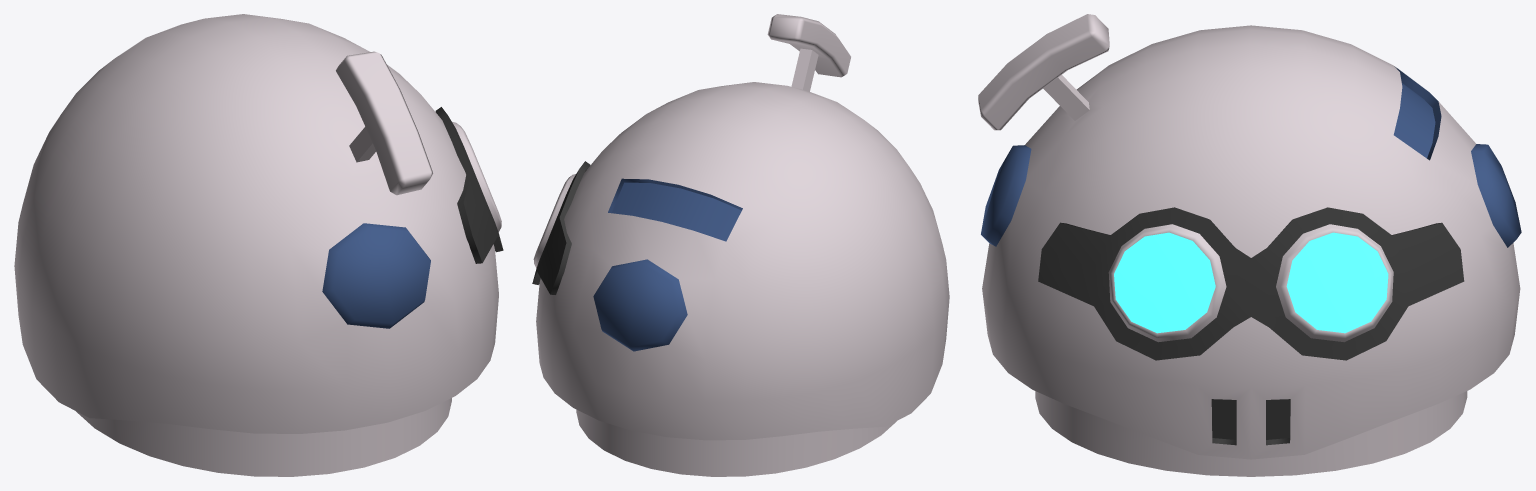
The model's file is Main_Character.fbx.
3 views of the same model, side by side, from view 1: azimuth 30°, elevation 25°; view 2: azimuth 150°, elevation 25°; view 3: azimuth 270°, elevation 25° (orthographic). The views are drawn at different scales.
Parts seen in each view (by area): view 1: SM_Main_Character; view 2: SM_Main_Character; view 3: SM_Main_Character.
Boxes of the visible parts, <box> form: SM_Main_Character: <box>14,14,503,476</box>; SM_Main_Character: <box>532,14,949,476</box>; SM_Main_Character: <box>978,14,1521,476</box>.
Size of the model in its own units: 1.04 by 0.9508 by 1.2.
